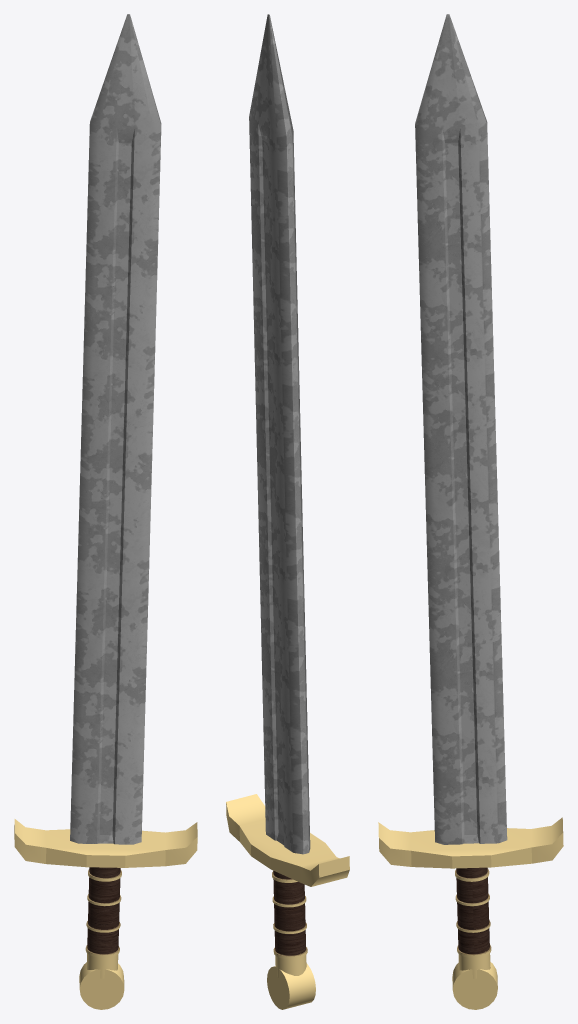
3 renders of one model, left to right at view 1: azimuth 90°, elevation 25°; view 2: azimuth 210°, elevation 25°; view 3: azimuth 270°, elevation 25°, orthographic.
Visible parts, largest first — view 1: Sword; view 2: Sword; view 3: Sword.
Boxes of the visible parts, <box> form: Sword: <box>14,14,197,1009</box>; Sword: <box>226,14,349,1009</box>; Sword: <box>378,14,563,1009</box>.
Bounding box in the file's own units: 30.12 × 508 × 85.72.
